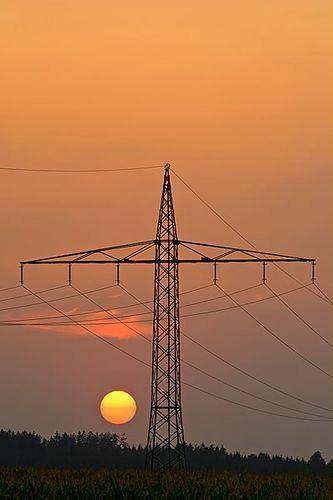power_tower: (11, 161, 319, 464)
